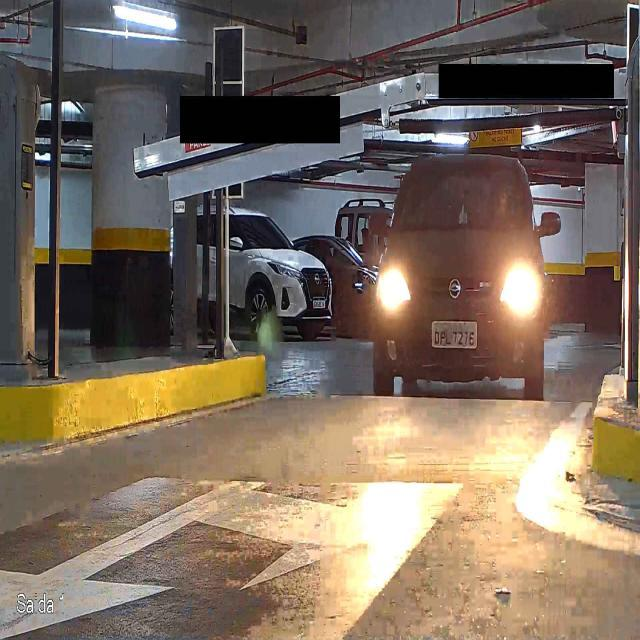old_plate: (430, 319, 479, 350)
